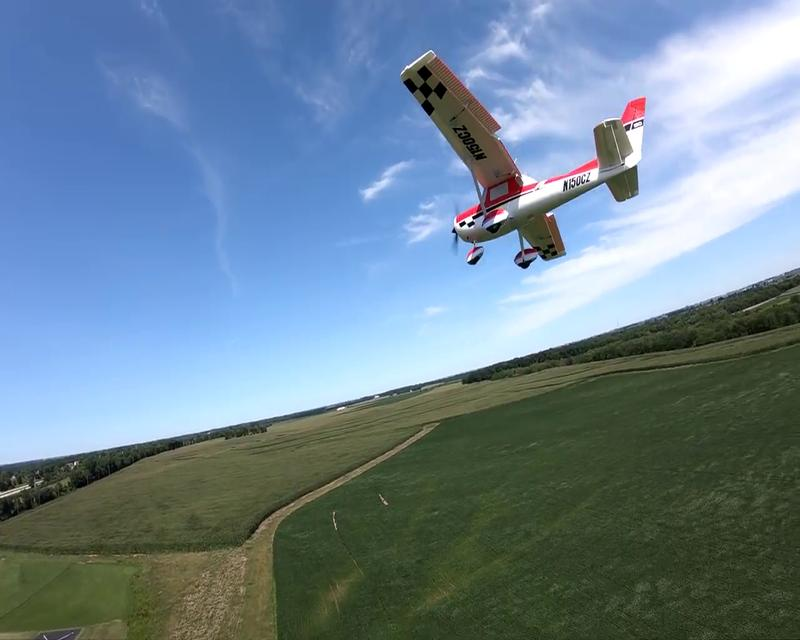UAV: (400, 49, 648, 269)
